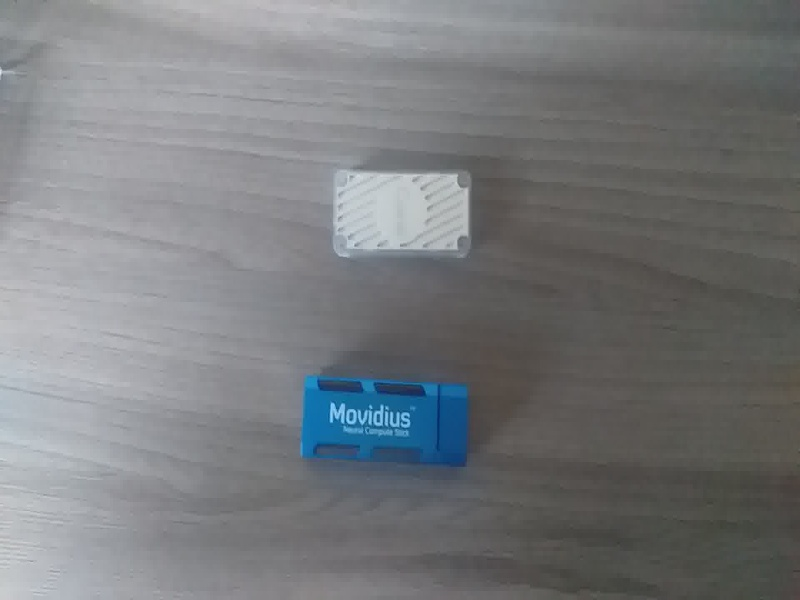coral: (326, 164, 482, 269)
movidius: (295, 368, 479, 476)
